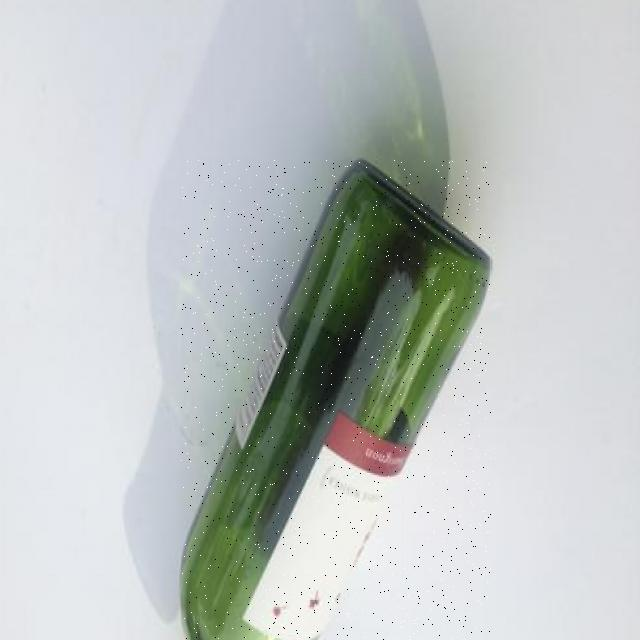glass: (182, 160, 491, 640)
